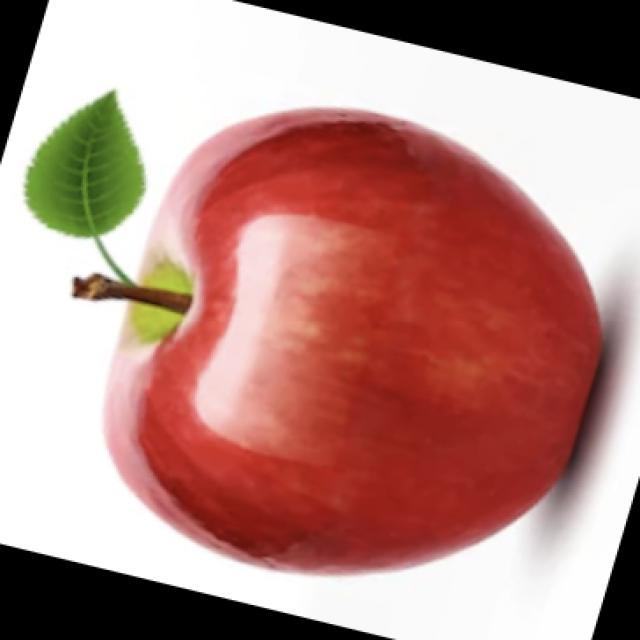Fresh Apple: (142, 117, 580, 558)
